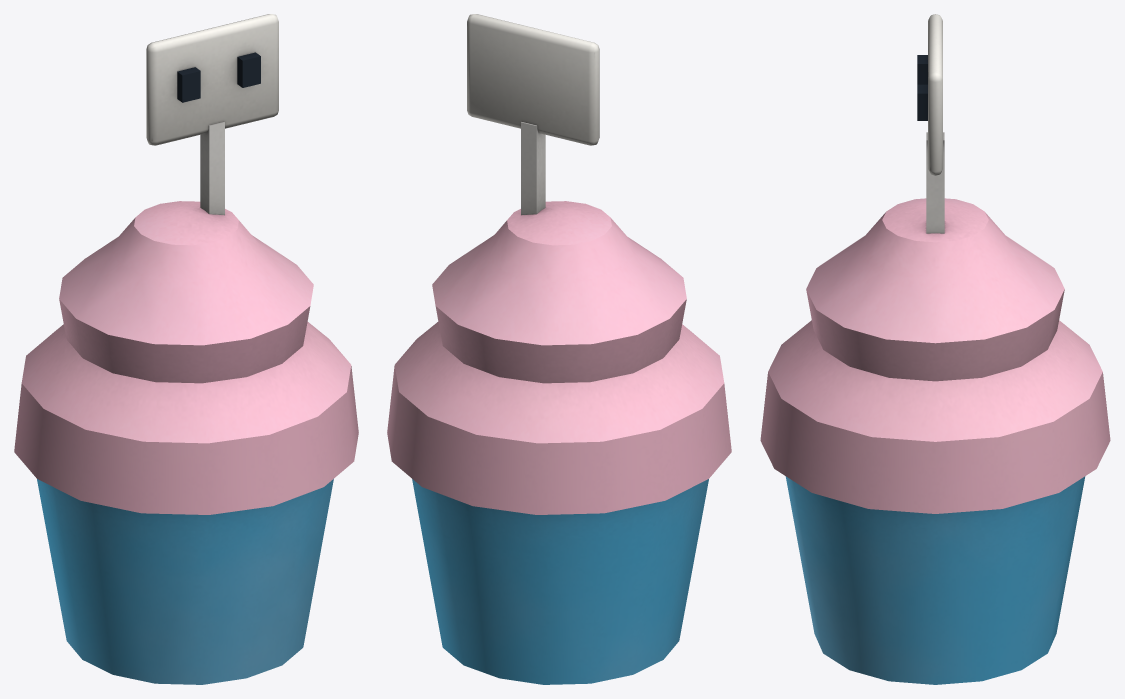
Rendered from cupcake.fbx.
The picture shows the model from 3 angles, left to right: view 1: azimuth 30°, elevation 25°; view 2: azimuth 150°, elevation 25°; view 3: azimuth 270°, elevation 25°; orthographic projection.
Visible parts, largest first — view 1: Body; view 2: Body; view 3: Body.
Part boxes in pixels (<box>): Body: <box>14,14,358,684</box>; Body: <box>387,14,731,684</box>; Body: <box>760,14,1110,684</box>.
Size of the model in its own units: 0.2282 by 0.4375 by 0.23.
1 material, 1 textured.
